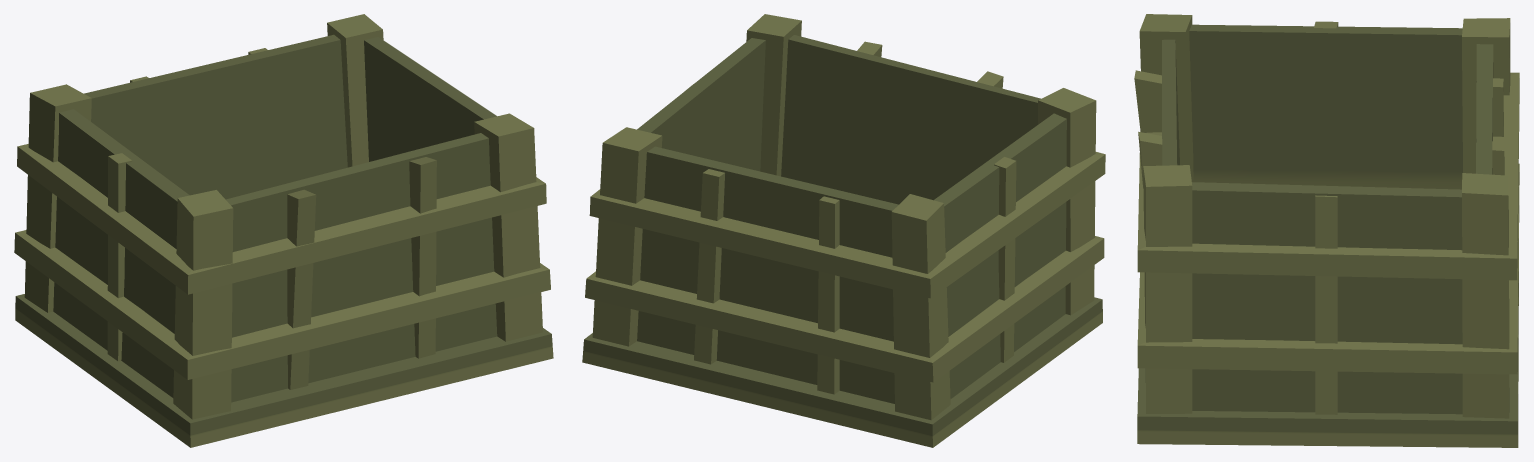
The model's file is SM_Prop_Box_02.glb.
3 views of the same model, side by side, from view 1: azimuth 30°, elevation 25°; view 2: azimuth 150°, elevation 25°; view 3: azimuth 270°, elevation 25° (orthographic). The views are drawn at different scales.
Parts seen in each view (by area): view 1: SM_Prop_Box_02; view 2: SM_Prop_Box_02; view 3: SM_Prop_Box_02.
Boxes of the visible parts, <box> form: SM_Prop_Box_02: <box>14,14,553,447</box>; SM_Prop_Box_02: <box>582,14,1105,447</box>; SM_Prop_Box_02: <box>1134,14,1519,447</box>.
Size of the model in its own units: 0.5745 by 0.3571 by 0.4896.
1 material, 1 textured.
